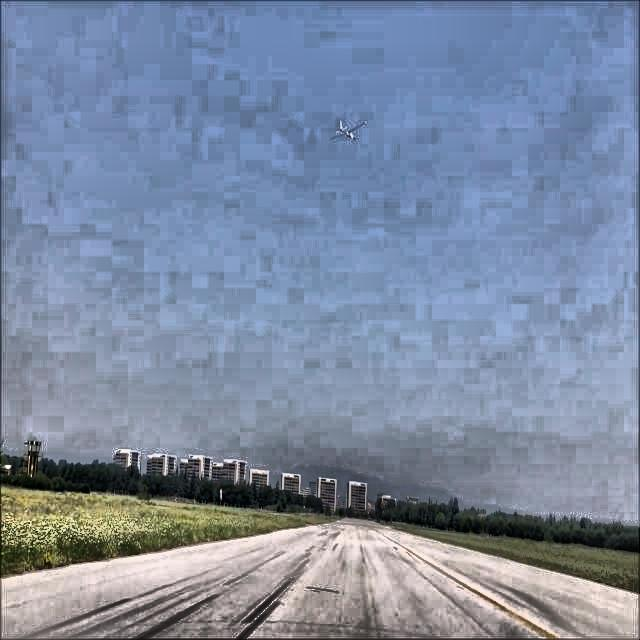iha: (329, 56, 343, 60)
